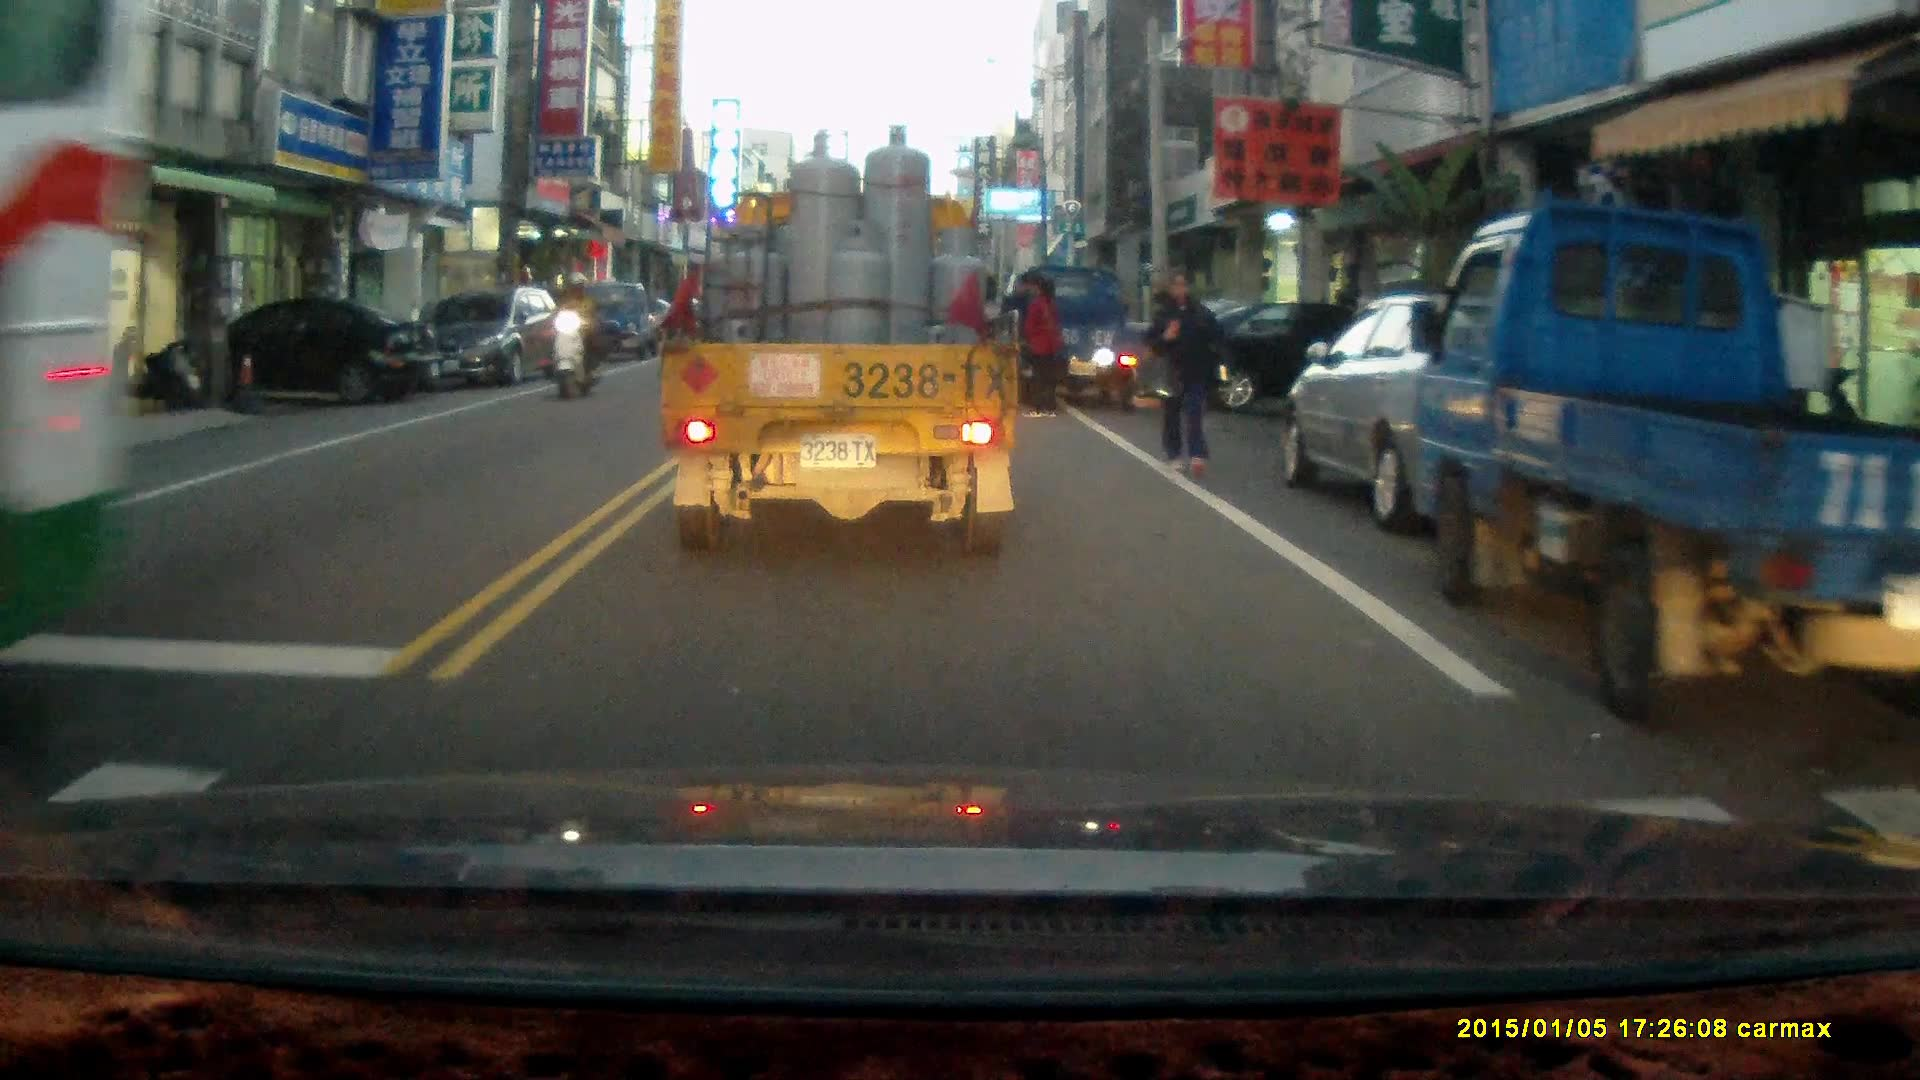pedestrian: (1143, 267, 1238, 476), (1022, 275, 1060, 413)
rider: (544, 266, 602, 398)
vehicle: (1409, 197, 1920, 731), (663, 123, 1023, 561), (1, 2, 158, 649), (1279, 288, 1610, 541), (1161, 296, 1438, 425), (1004, 261, 1152, 408), (425, 289, 569, 393), (573, 278, 675, 364)
